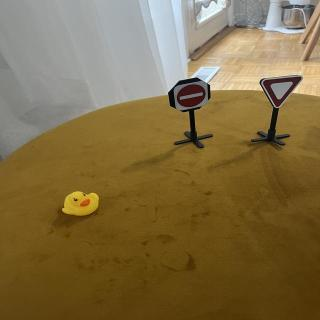duck_regular: (60, 191, 102, 218)
sign_noentry: (173, 80, 211, 113)
sign_yield: (261, 74, 305, 110)
